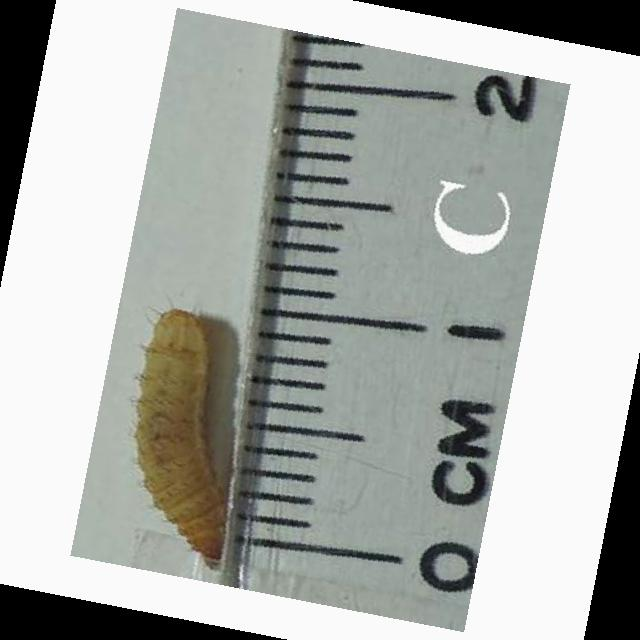Maggot: (135, 308, 232, 568)
